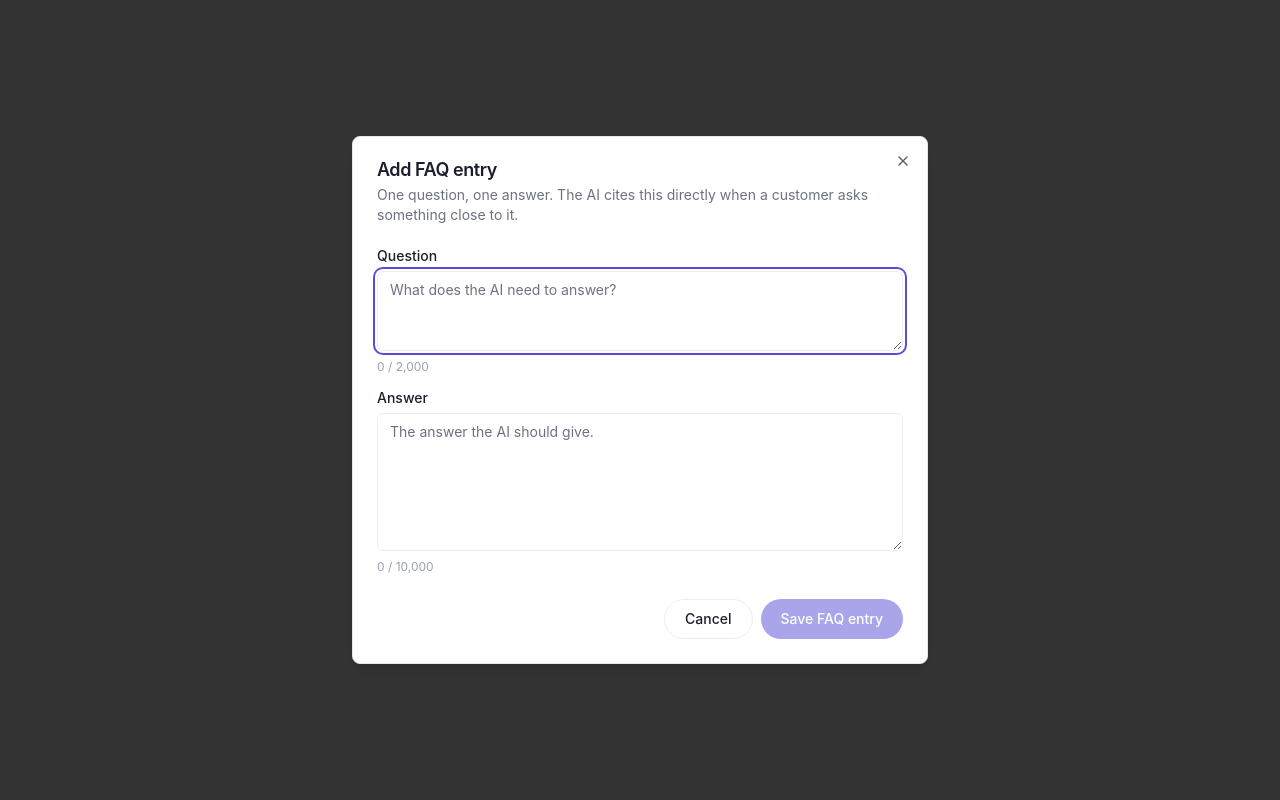
Test case: AddFaqDialog — KAN-XXX › Test 4 — 400 error surfaces inline error
Type "Q?" into the text box labelled "Question" at coordinates (640, 311), box [377,271,903,351]
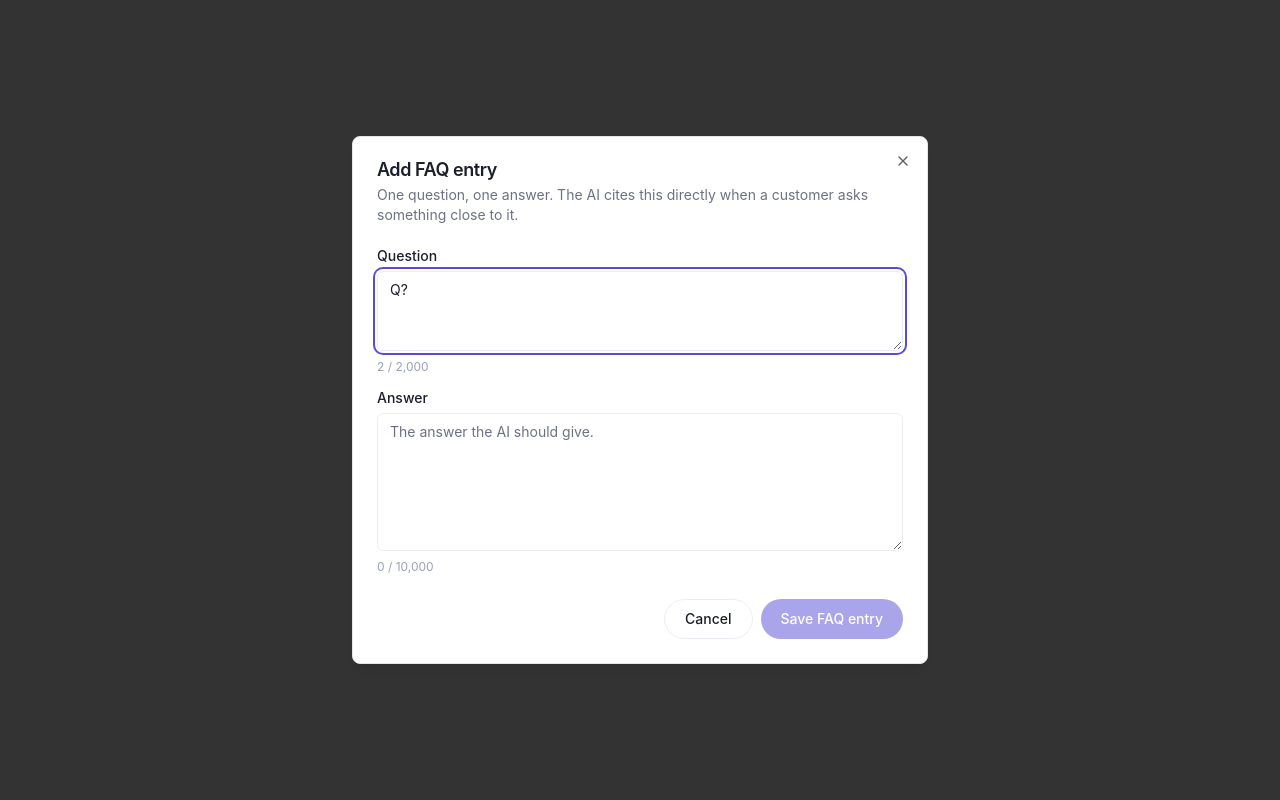
Type "A." into the text box labelled "Answer" at coordinates (640, 482), box [377,413,903,551]
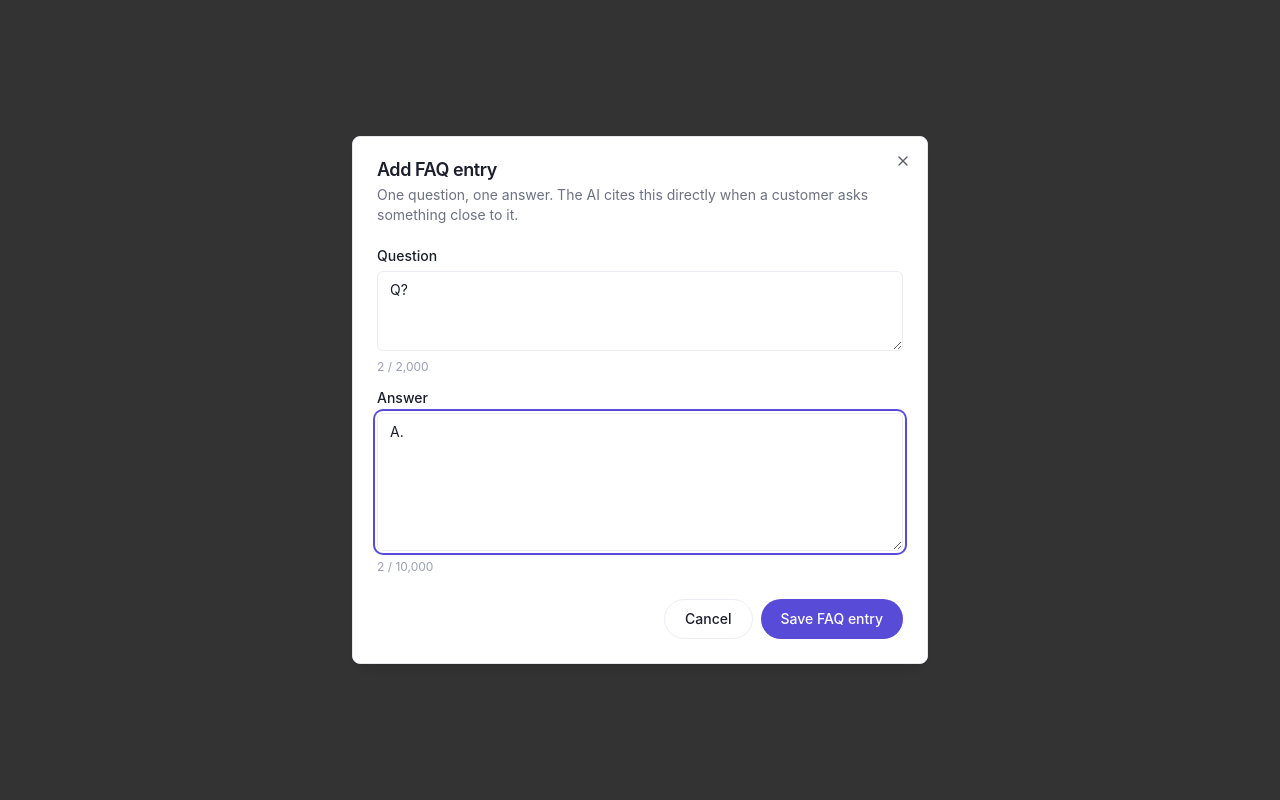
Click the button "Save FAQ entry" at coordinates (832, 619), box [760,599,903,639]
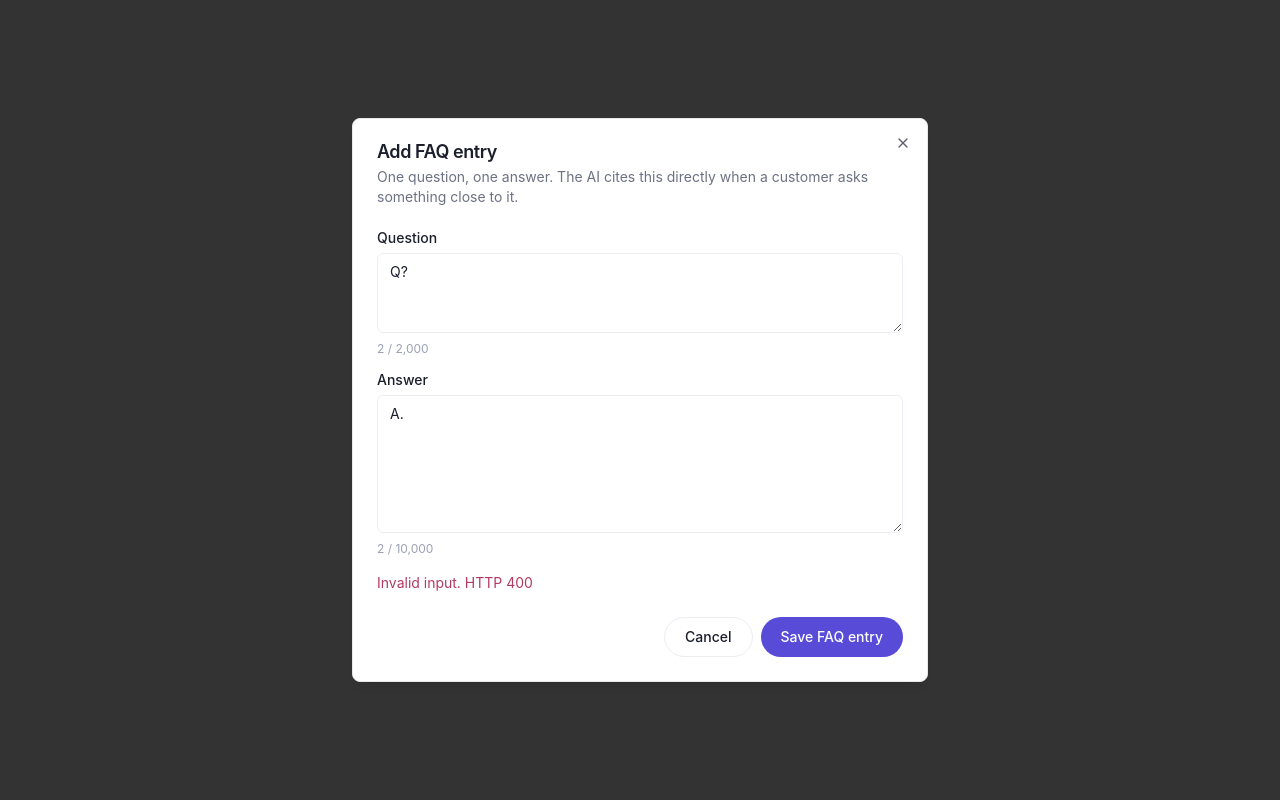
Expected: the message "Invalid input. HTTP 400" is shown, [377,574,533,591]
